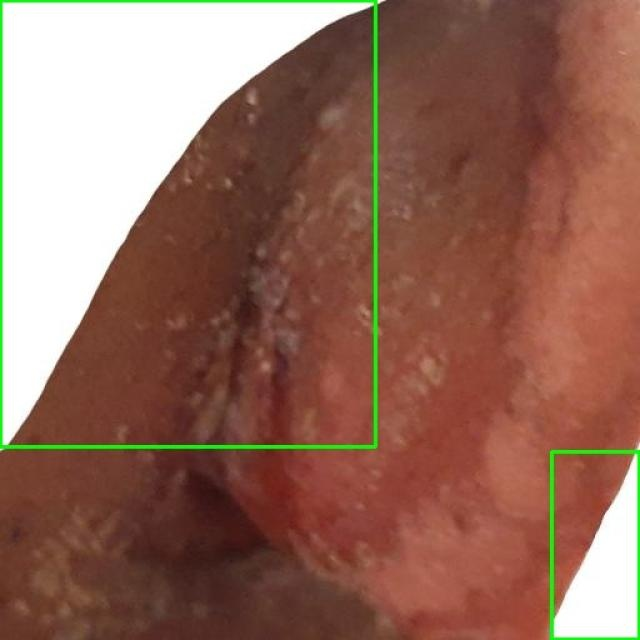Contact Dermatitis: (0, 0, 375, 446), (551, 451, 639, 639)
